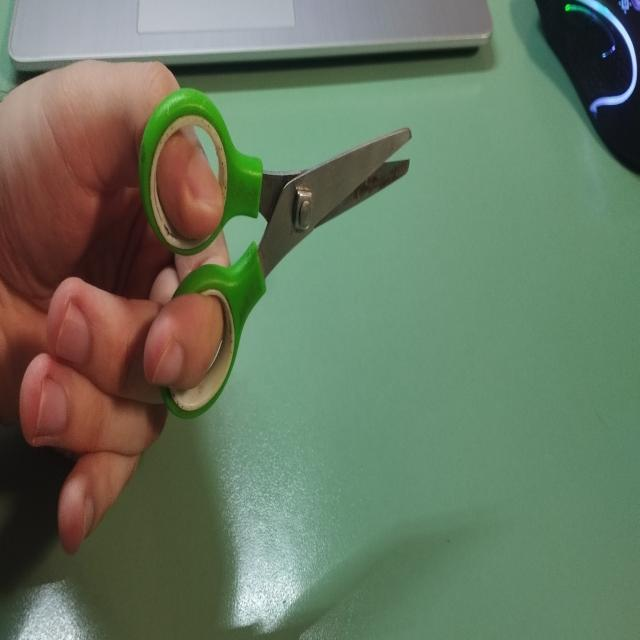tesoura: (136, 82, 415, 430)
